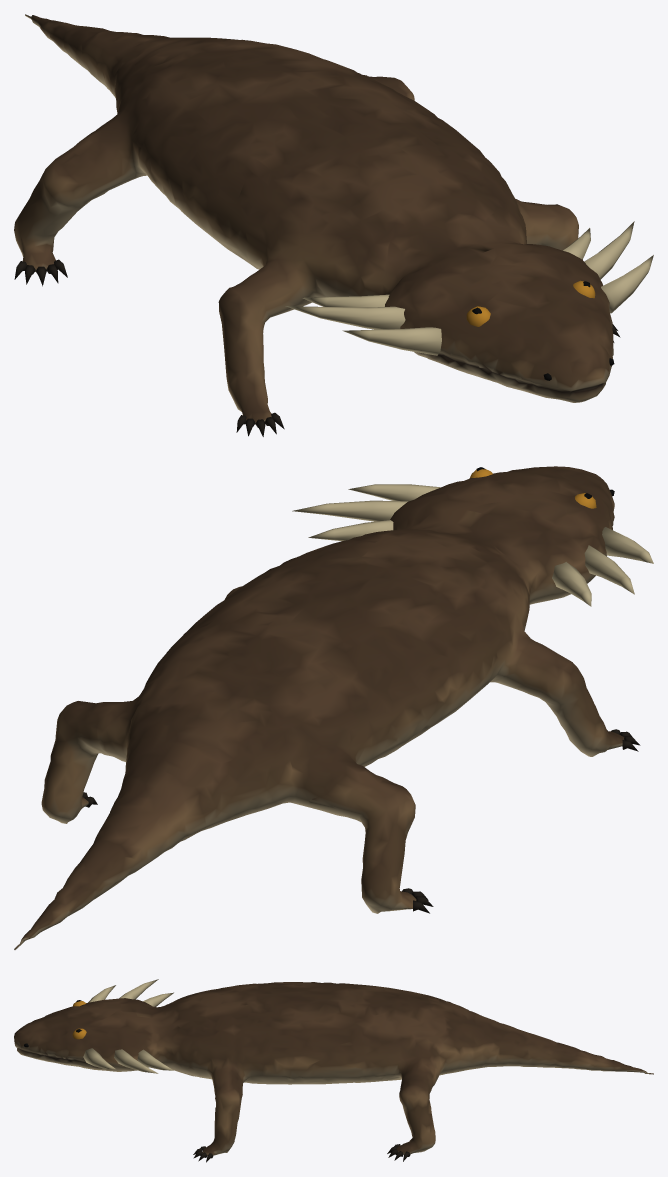
File: Hypsognathus.fbx
3 renders of one model, top to bottom at view 1: azimuth 30°, elevation 25°; view 2: azimuth 150°, elevation 25°; view 3: azimuth 270°, elevation 25°, orthographic. The views are drawn at different scales.
Visible parts, largest first — view 1: Hypsognathus; view 2: Hypsognathus; view 3: Hypsognathus.
Boxes of the visible parts, x1=… form: Hypsognathus: x1=14, y1=14, x2=653, y2=436; Hypsognathus: x1=14, y1=466, x2=653, y2=949; Hypsognathus: x1=14, y1=979, x2=653, y2=1162.
Size of the model in its own units: 0.6997 by 0.3261 by 1.7.
